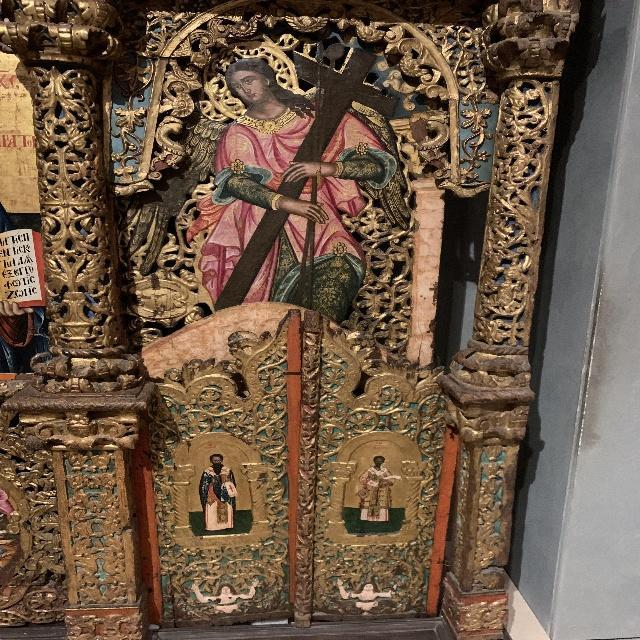aura: (205, 43, 294, 116), (202, 451, 231, 469), (371, 455, 389, 467)
church_father: (356, 455, 399, 518), (203, 449, 236, 529)
cross: (218, 48, 406, 312), (224, 482, 235, 498), (366, 480, 379, 487), (207, 470, 214, 477), (367, 470, 378, 474), (221, 469, 229, 474), (379, 471, 387, 474)
saint: (189, 40, 388, 334)
